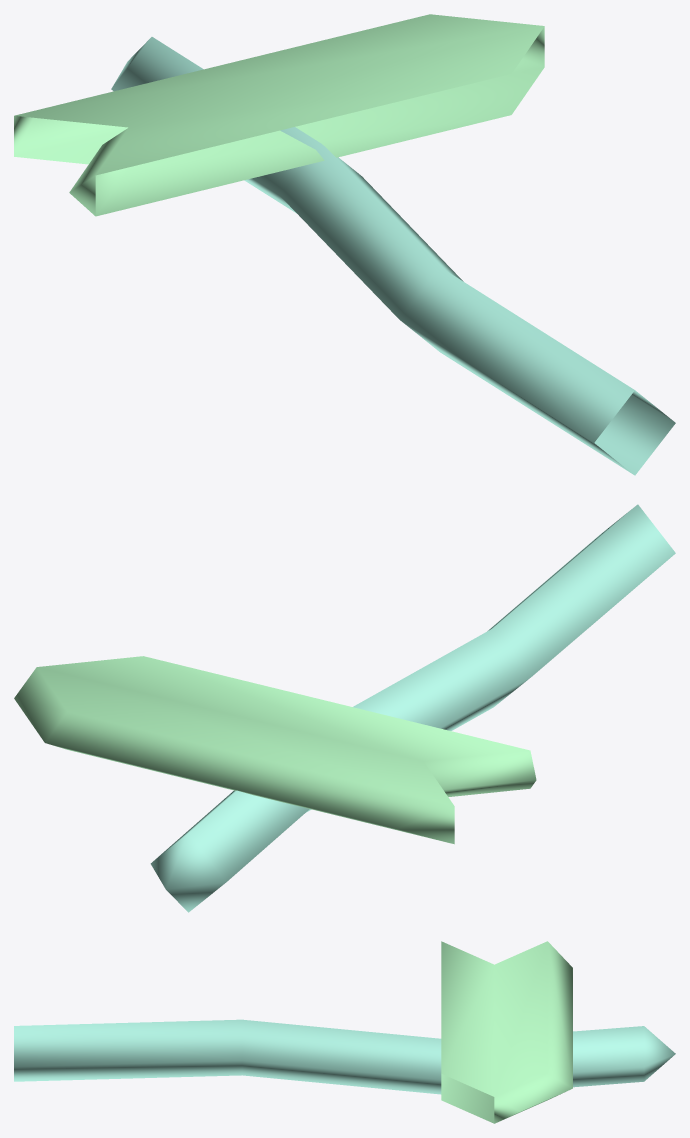
3 renders of one model, top to bottom at view 1: azimuth 30°, elevation 25°; view 2: azimuth 150°, elevation 25°; view 3: azimuth 270°, elevation 25°, orthographic. The views are drawn at different scales.
Visible parts, largest first — view 1: Object59; view 2: Object59; view 3: Object59.
Part boxes in pixels (x1=…): Object59: x1=14, y1=14, x2=675, y2=475; Object59: x1=14, y1=504, x2=675, y2=912; Object59: x1=14, y1=941, x2=675, y2=1123.
Size of the model in its own units: 10285 by 2332 by 17679.
